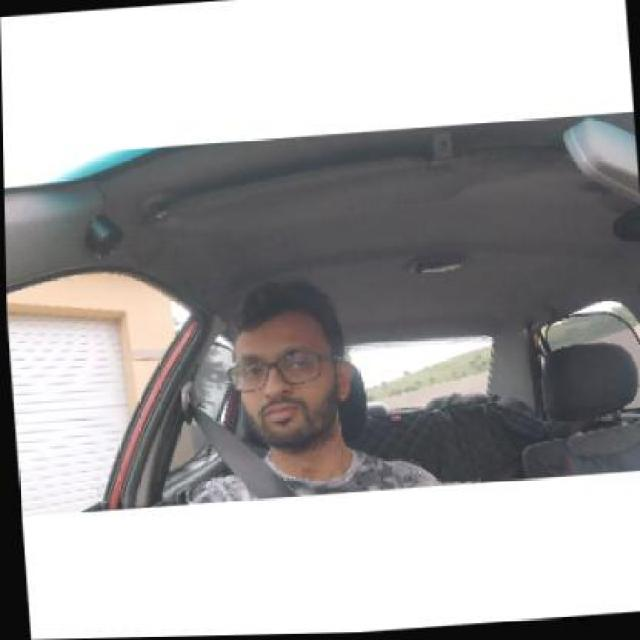person: (216, 287, 368, 447)
